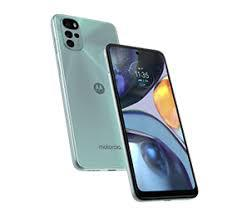Smartphone: (105, 41, 206, 199), (44, 11, 128, 182)
